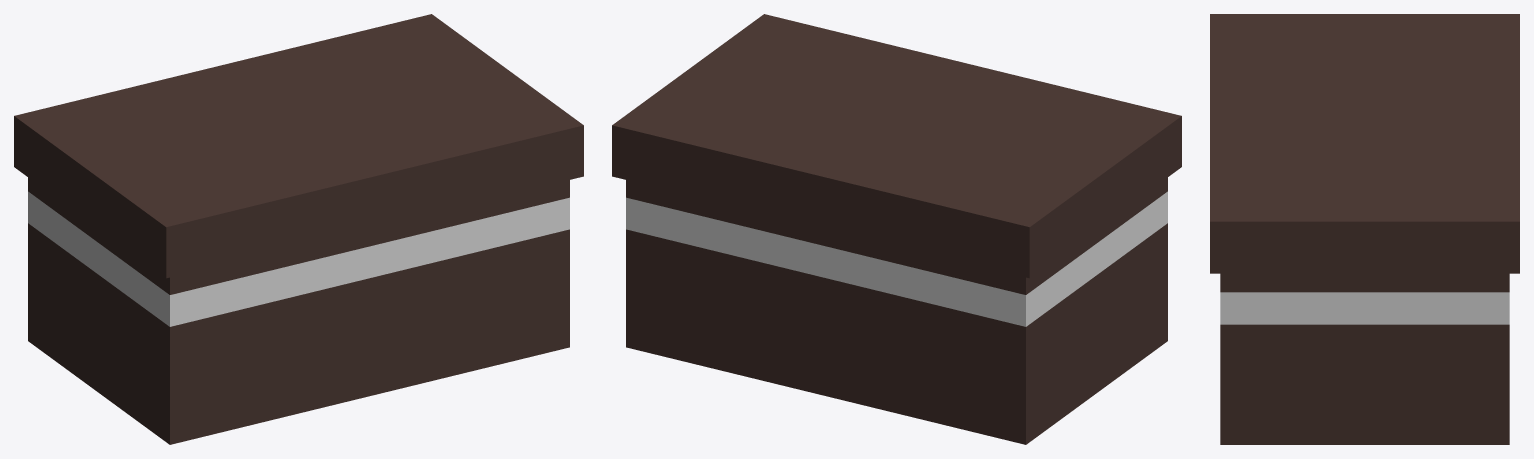
3 renders of one model, left to right at view 1: azimuth 30°, elevation 25°; view 2: azimuth 150°, elevation 25°; view 3: azimuth 270°, elevation 25°, orthographic.
Visible parts, largest first — view 1: Box; view 2: Box; view 3: Box.
Boxes of the visible parts, left/top/right/bottom form: Box: left=14, top=14, right=583, bottom=444; Box: left=612, top=14, right=1181, bottom=444; Box: left=1210, top=14, right=1519, bottom=444.
Size of the model in its own units: 1.33 by 0.6804 by 0.839.
